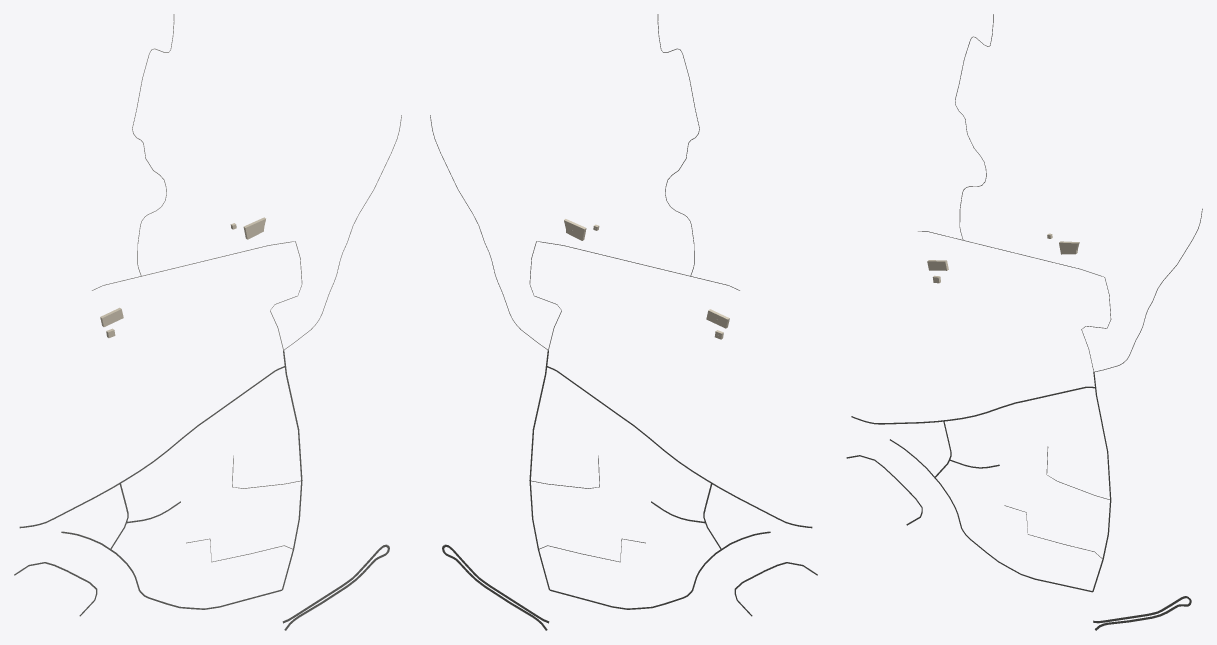
The model's file is historic-palestine-11_34_3531_3287.glb.
The picture shows the model from 3 angles, left to right: view 1: azimuth 30°, elevation 25°; view 2: azimuth 150°, elevation 25°; view 3: azimuth 330°, elevation 25°; orthographic projection. The views are drawn at different scales.
Parts seen in each view (by area): view 1: Road .007, Road .008; view 2: Road .007, Road .008; view 3: Road .007.
Boxes of the visible parts, <box> form: Road .007: <box>19,366,285,528</box>; Road .008: <box>61,531,282,609</box>; Road .007: <box>547,366,812,528</box>; Road .008: <box>549,531,770,609</box>; Road .007: <box>851,386,1095,424</box>.
Bounding box in the file's own units: 875 × 1389 × 8.7.
